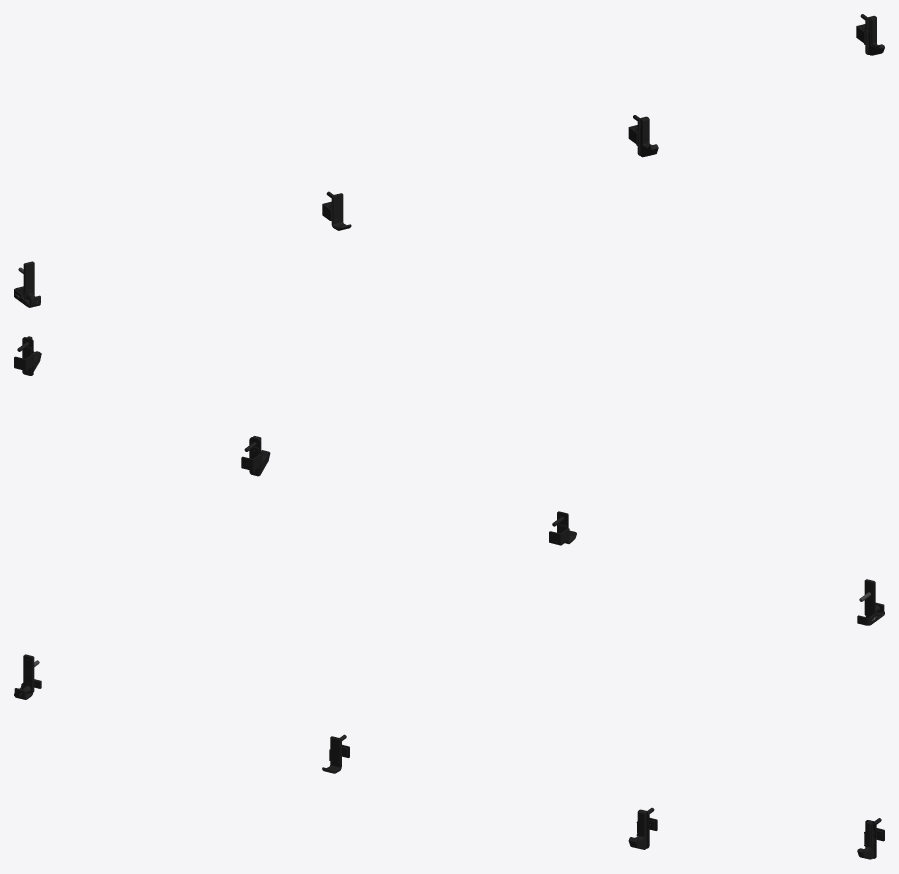
Rendered from jcups.glb.
The picture shows the model from 3 angles, top to bottom: view 1: azimuth 30°, elevation 25°; view 2: azimuth 150°, elevation 25°; view 3: azimuth 330°, elevation 25°; orthographic projection.
Visible parts, largest first — view 1: Monster 1in J-Cups.008; view 2: Monster 1in J-Cups.008; view 3: Monster 1in J-Cups.008, body, (mat|plastic) Plastic, (mat | plastic) Plastic.
Part boxes in pixels (left/top/right/bottom): Monster 1in J-Cups.008: left=856, top=14, right=884, bottom=55; Monster 1in J-Cups.008: left=14, top=336, right=41, bottom=375; Monster 1in J-Cups.008: left=857, top=818, right=884, bottom=859; body: left=322, top=734, right=347, bottom=773; (mat|plastic) Plastic: left=14, top=654, right=40, bottom=697; (mat | plastic) Plastic: left=628, top=810, right=654, bottom=849.
Size of the model in its own units: 6.09 by 0.5597 by 0.261.
6 materials, 1 textured.
